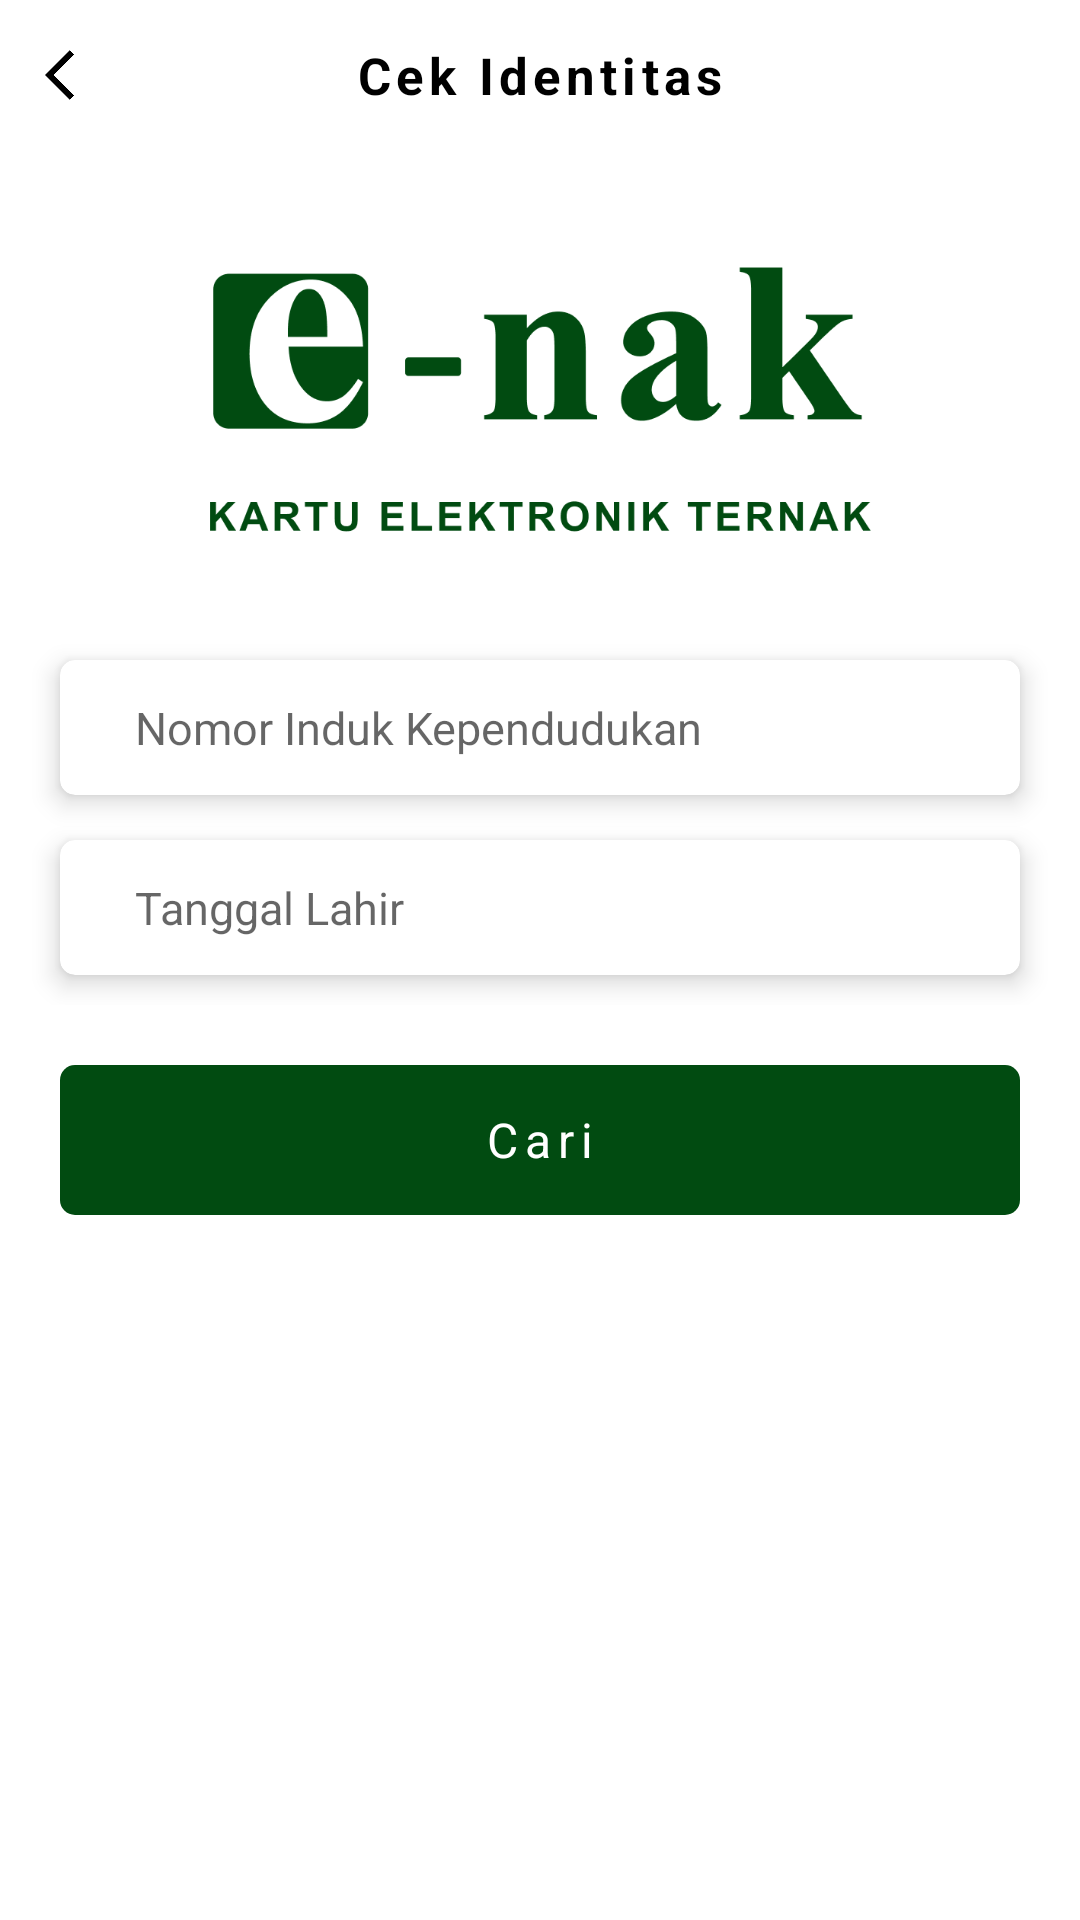

Locate icon controls on the screen. Image size 1080*1920, boxes as (x1, y1, x2, y2).
arrow back: (45, 50, 74, 100)
